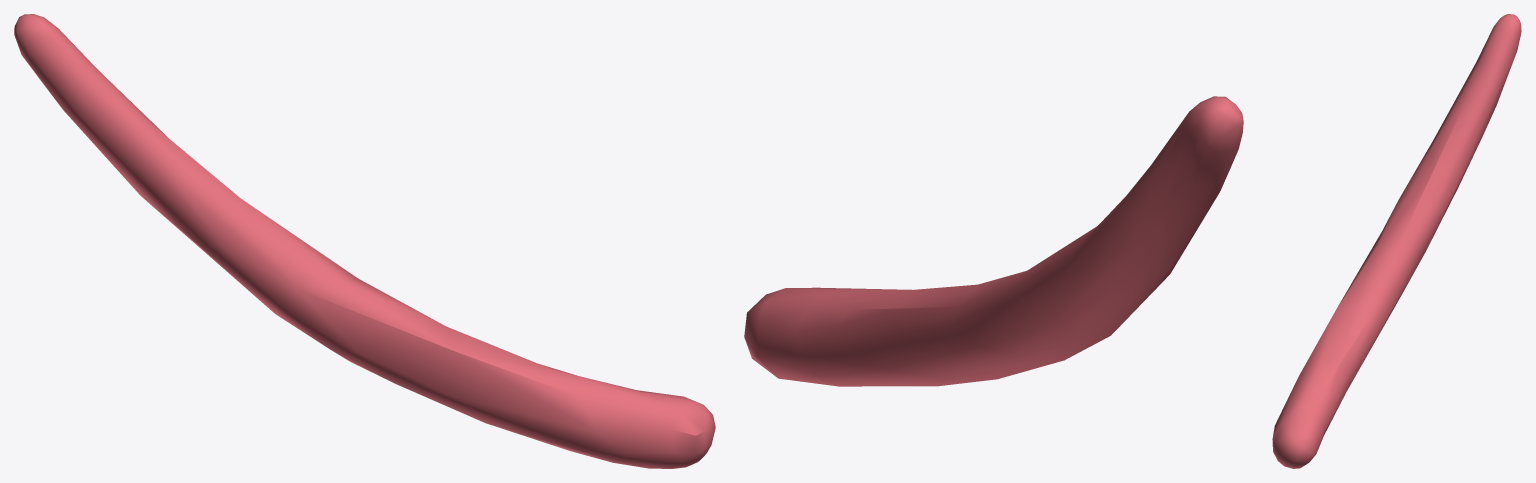
File: fma68945_fj3036.glb
3 views of the same model, side by side, from view 1: azimuth 30°, elevation 25°; view 2: azimuth 150°, elevation 25°; view 3: azimuth 270°, elevation 25° (orthographic). The views are drawn at different scales.
Parts seen in each view (by area): view 1: FMA68945_FJ3036; view 2: FMA68945_FJ3036; view 3: FMA68945_FJ3036.
Boxes of the visible parts, left/top/right/bottom form: FMA68945_FJ3036: left=14, top=14, right=715, bottom=468; FMA68945_FJ3036: left=744, top=96, right=1243, bottom=386; FMA68945_FJ3036: left=1272, top=14, right=1521, bottom=468.
Bounding box in the file's own units: 0.029 × 0.0232 × 0.0178.
